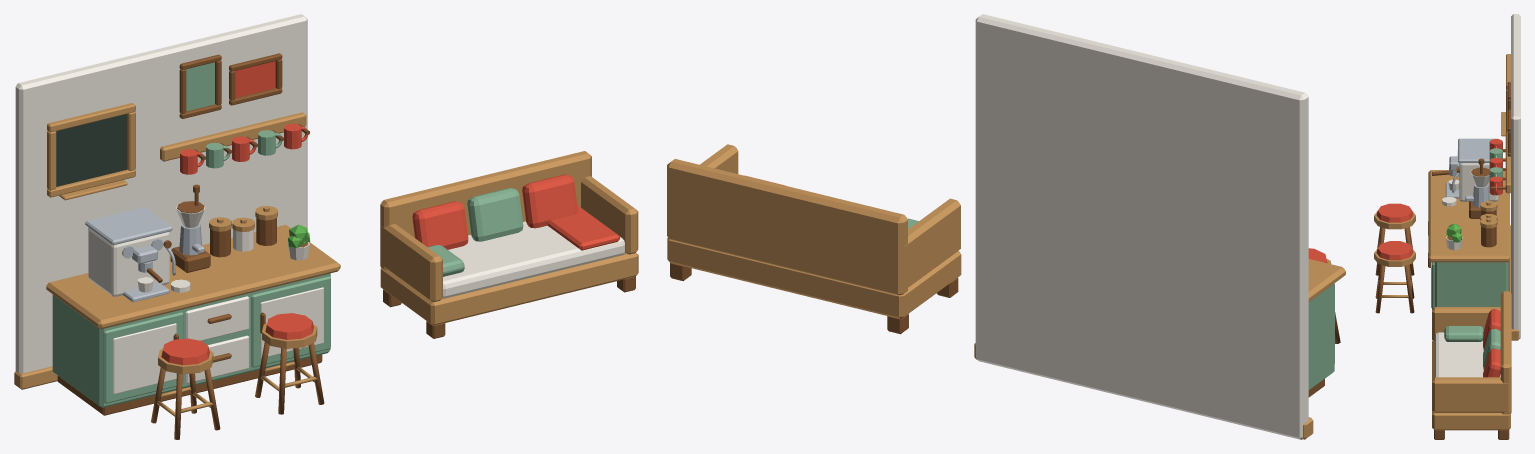
Rendered from cosy-coffee-bar-set.glb.
3 renders of one model, left to right at view 1: azimuth 30°, elevation 25°; view 2: azimuth 150°, elevation 25°; view 3: azimuth 270°, elevation 25°, orthographic. The views are drawn at different scales.
Parts seen in each view (by area): view 1: Wall_Panel, Counter_Top, Daybed_Mattress, Daybed_Frame, Counter_Body, Daybed_Back, Chalkboard_Board, Espresso_Body, Daybed_ArmL, Door_Left_Inset, Daybed_Cushion1, Daybed_ArmR (+21 smaller); view 2: Wall_Panel, Daybed_Back, Daybed_Frame, Daybed_ArmL, Counter_Body, Counter_Top, Daybed_ArmR; view 3: Counter_Top, Counter_Body, Wall_Panel, Daybed_ArmR, Daybed_Mattress, Daybed_Frame, Daybed_Back, Daybed_ArmL, Espresso_TopTray, Espresso_Body, Daybed_Pillow, Stool1_Seat (+15 smaller).
Part boxes in pixels (left/top/right/bottom): Wall_Panel: left=15, top=14, right=307, bottom=373; Counter_Top: left=46, top=224, right=340, bottom=329; Daybed_Mattress: left=442, top=221, right=625, bottom=298; Daybed_Frame: left=380, top=253, right=638, bottom=325; Counter_Body: left=52, top=273, right=330, bottom=407; Daybed_Back: left=380, top=151, right=591, bottom=269; Chalkboard_Board: left=56, top=114, right=126, bottom=186; Espresso_Body: left=88, top=227, right=169, bottom=296; Daybed_ArmL: left=380, top=223, right=442, bottom=302; Door_Left_Inset: left=113, top=323, right=176, bottom=394; Daybed_Cushion1: left=467, top=188, right=523, bottom=241; Daybed_ArmR: left=581, top=176, right=638, bottom=254; Wall_Panel: left=975, top=14, right=1308, bottom=439; Daybed_Back: left=667, top=159, right=907, bottom=295; Daybed_Frame: left=667, top=238, right=961, bottom=318; Daybed_ArmL: left=904, top=198, right=960, bottom=289; Counter_Body: left=1308, top=283, right=1334, bottom=389; Counter_Top: left=1308, top=259, right=1345, bottom=301; Daybed_ArmR: left=700, top=144, right=738, bottom=173; Counter_Top: left=1428, top=170, right=1509, bottom=262; Counter_Body: left=1434, top=261, right=1508, bottom=306; Wall_Panel: left=1511, top=14, right=1520, bottom=338; Daybed_ArmR: left=1432, top=377, right=1508, bottom=412; Daybed_Mattress: left=1434, top=332, right=1500, bottom=377; Daybed_Frame: left=1432, top=341, right=1510, bottom=430; Daybed_Back: left=1500, top=291, right=1511, bottom=414; Daybed_ArmL: left=1432, top=307, right=1500, bottom=341; Espresso_TopTray: left=1458, top=138, right=1498, bottom=162; Espresso_Body: left=1459, top=163, right=1498, bottom=201; Daybed_Pillow: left=1444, top=326, right=1483, bottom=341; Stool1_Seat: left=1376, top=203, right=1413, bottom=222.
Bounding box in the file's own units: 19.66 × 10 × 5.95.
